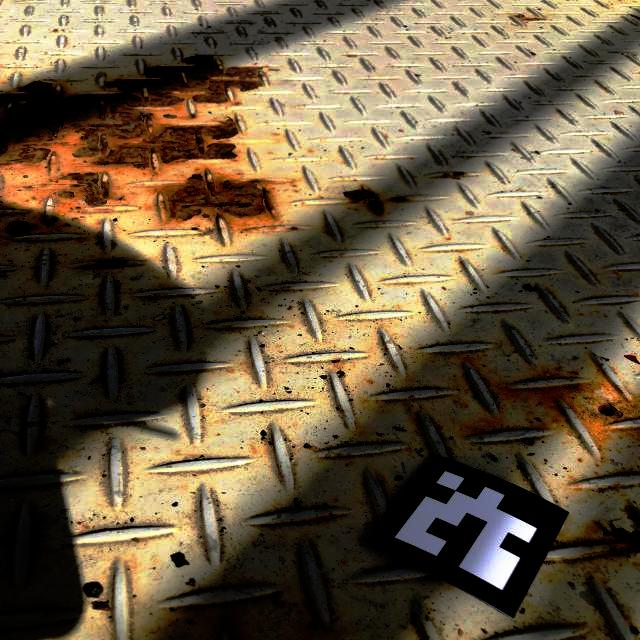Corrosion: (0, 55, 267, 168), (527, 372, 640, 459), (168, 170, 272, 220), (66, 170, 109, 206), (4, 219, 70, 241), (344, 184, 384, 215), (603, 522, 640, 554), (39, 203, 57, 225), (626, 505, 640, 529), (56, 186, 79, 200), (90, 259, 129, 267), (390, 195, 406, 203), (520, 17, 547, 21), (452, 170, 466, 176), (512, 14, 526, 20), (215, 213, 225, 221), (290, 226, 300, 231)
